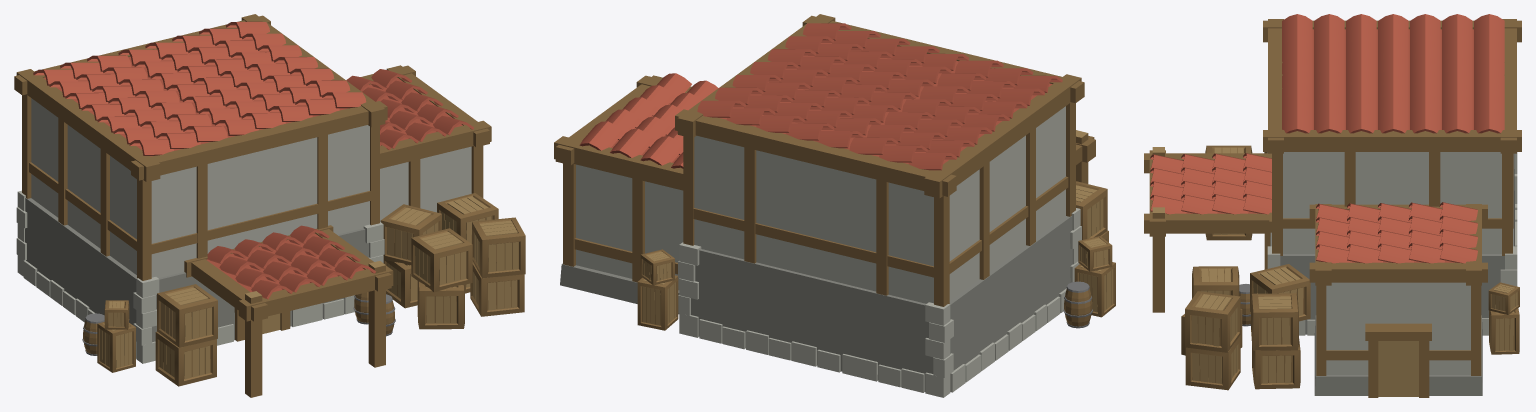
File: Storage_SecondAge_Level3.glb
3 renders of one model, left to right at view 1: azimuth 30°, elevation 25°; view 2: azimuth 150°, elevation 25°; view 3: azimuth 270°, elevation 25°, orthographic. The views are drawn at different scales.
Parts seen in each view (by area): view 1: Storage_SecondAge_Level3; view 2: Storage_SecondAge_Level3; view 3: Storage_SecondAge_Level3.
Boxes of the visible parts, box(x1,y1,x2,y2) form: Storage_SecondAge_Level3: box(14, 14, 525, 397); Storage_SecondAge_Level3: box(554, 14, 1115, 397); Storage_SecondAge_Level3: box(1144, 14, 1521, 397).
Size of the model in its own units: 1.81 by 0.8991 by 1.43.
